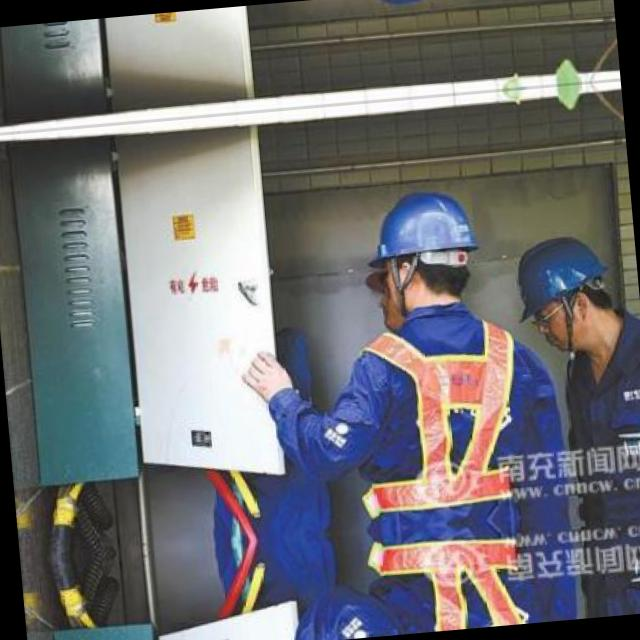helmet: (358, 172, 492, 323), (508, 220, 623, 355)
